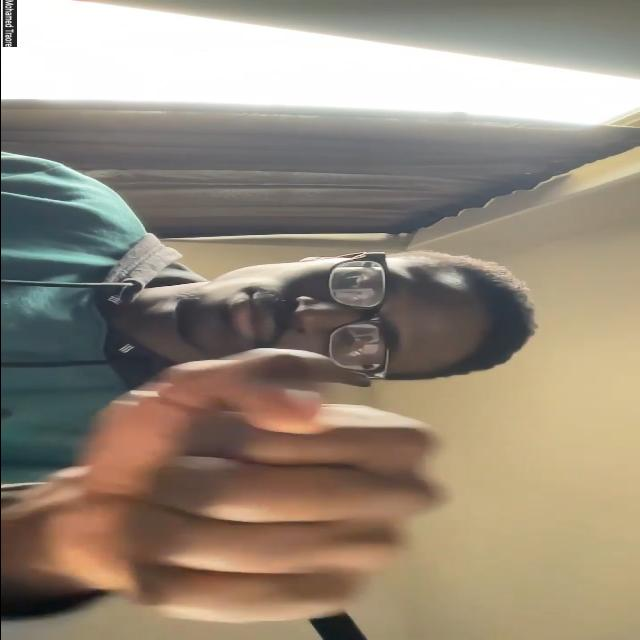Rock: (40, 348, 450, 626)
